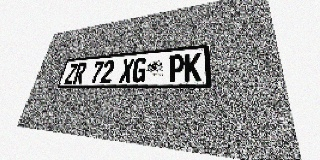2: (100, 60, 115, 83)
7: (89, 61, 105, 83)
G: (131, 57, 148, 83)
K: (184, 52, 201, 81)
P: (168, 54, 185, 82)
R: (72, 62, 88, 84)
X: (119, 58, 135, 83)
Z: (64, 63, 79, 84)
